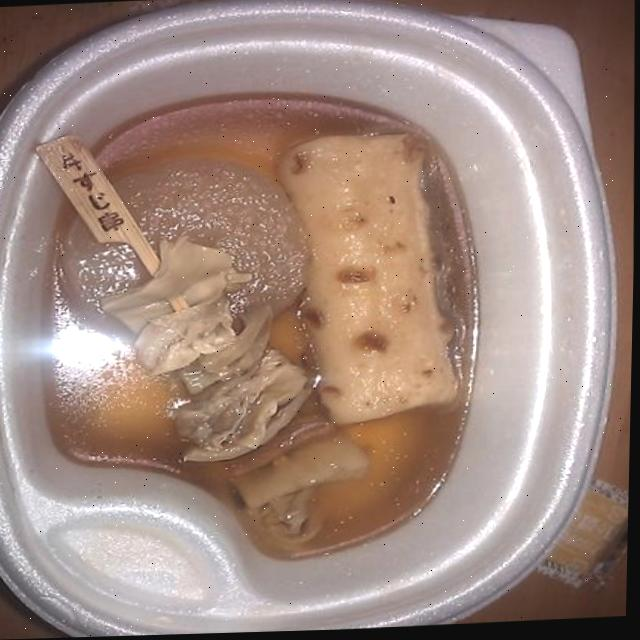汤锅炖物: (0, 10, 606, 640)
